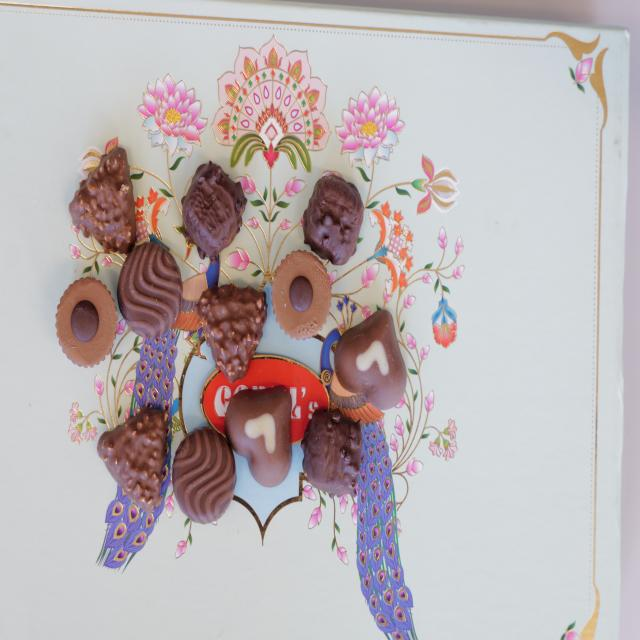Noblesse: (55, 275, 119, 367), (272, 249, 332, 341)
Noir_authentique: (172, 425, 238, 523), (119, 241, 184, 340)
Passion_au_lait: (334, 309, 407, 411), (227, 386, 293, 486)
Tentation_noir: (183, 161, 247, 257), (301, 406, 363, 498), (302, 173, 364, 264)
Triangolo: (67, 142, 145, 257), (98, 406, 174, 515), (197, 283, 269, 383)
